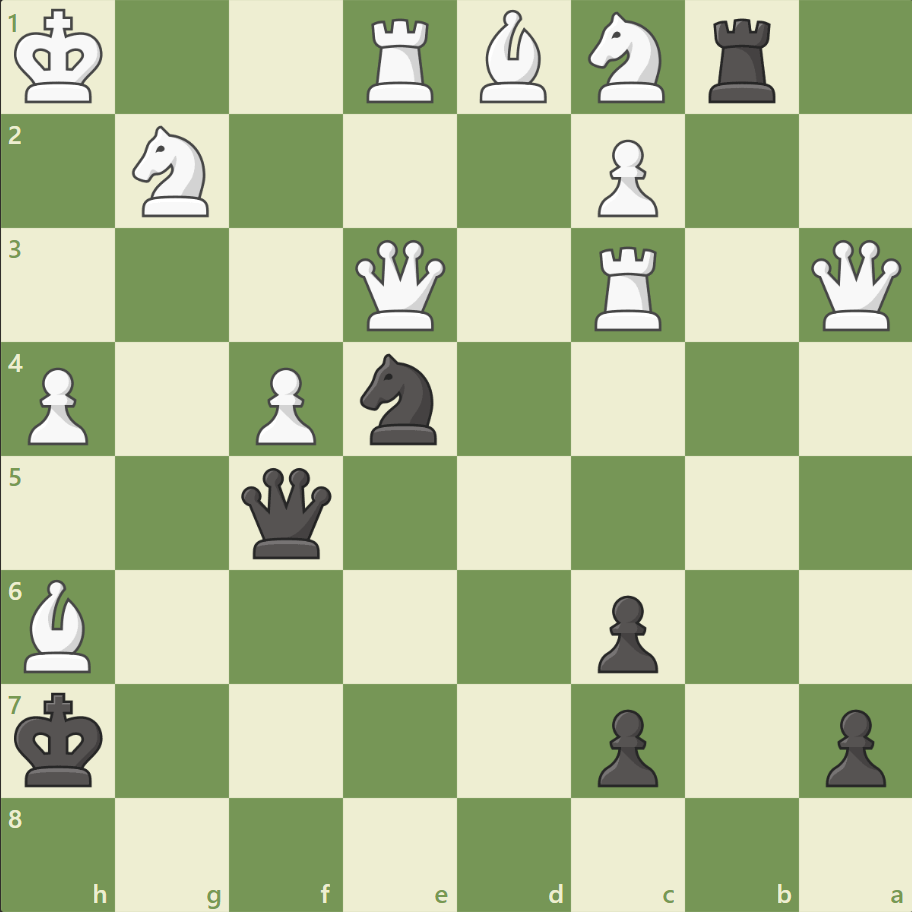B: (471, 6, 555, 109), (17, 574, 101, 676)
K: (11, 4, 111, 112)
N: (124, 121, 222, 223), (579, 7, 676, 110)
P: (247, 359, 322, 450), (20, 359, 95, 450), (588, 132, 662, 223)
Q: (805, 236, 904, 335), (351, 236, 450, 335)
R: (587, 239, 670, 336), (360, 12, 442, 109)
k: (11, 685, 111, 793)
n: (351, 348, 449, 450)
p: (815, 700, 889, 791), (588, 700, 662, 791), (588, 586, 662, 677)
q: (237, 463, 336, 562)
r: (700, 12, 783, 109)
